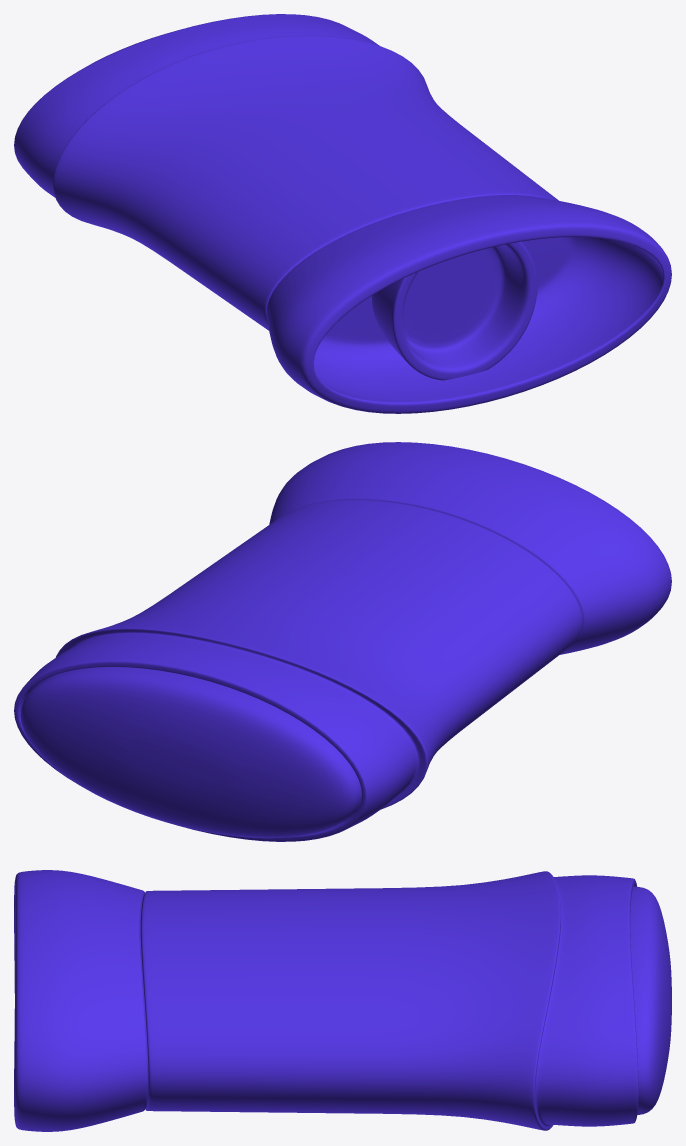
File: desodorantee.dae
3 views of the same model, one above another, from view 1: azimuth 30°, elevation 25°; view 2: azimuth 150°, elevation 25°; view 3: azimuth 270°, elevation 25° (orthographic). The views are drawn at different scales.
Visible parts, largest first — view 1: desodorante; view 2: desodorante; view 3: desodorante.
Part boxes in pixels (<box>): desodorante: <box>14,14,671,413</box>; desodorante: <box>14,442,671,841</box>; desodorante: <box>14,870,671,1131</box>.
Bounding box in the file's own units: 1.75 × 2.53 × 0.7529.
